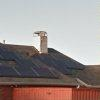Chimney: (24, 20, 55, 59)
